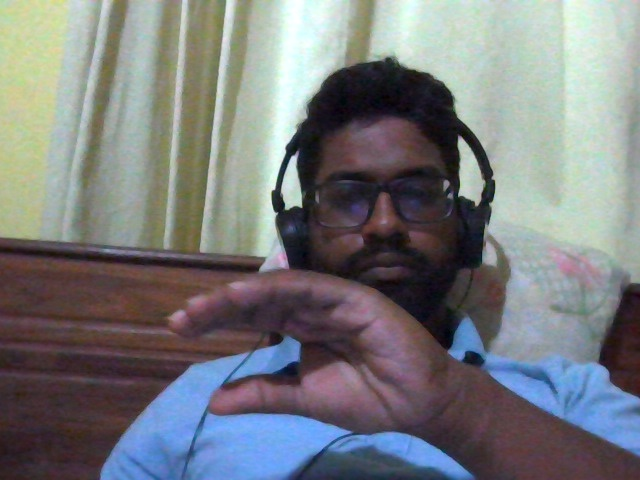No: (128, 242, 508, 458)
